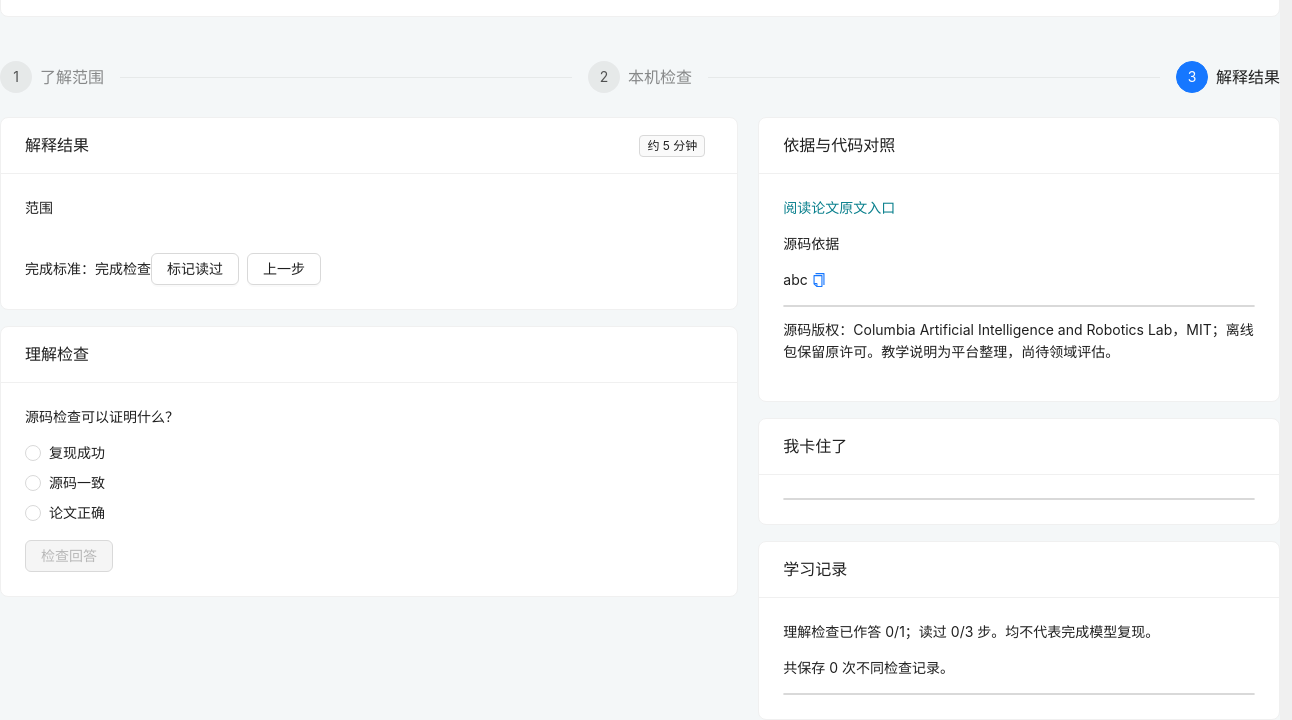
Test: saved answers receive feedback and scope stays honest
(page scrolled)
Expected: the text "源码检查可以证明什么？" is shown, [25,408,179,425]
What coordinates should you click on to do the following:
click the radio button labelled "复现成功"
I would click on:
 (69, 453)
Its box is [25,442,113,464].
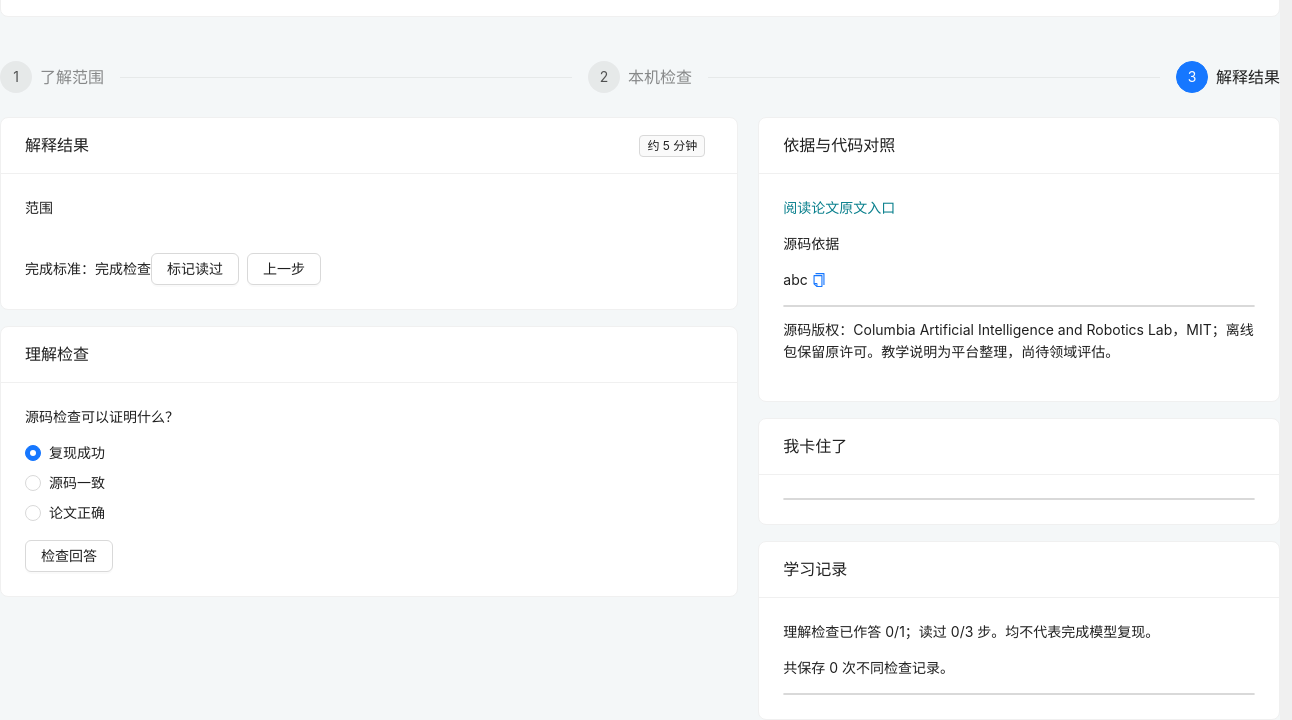
What coordinates should you click on to do the following:
click the button "检查回答"
I would click on:
 (69, 556)
Its box is [25,540,113,572].
(page scrolled)
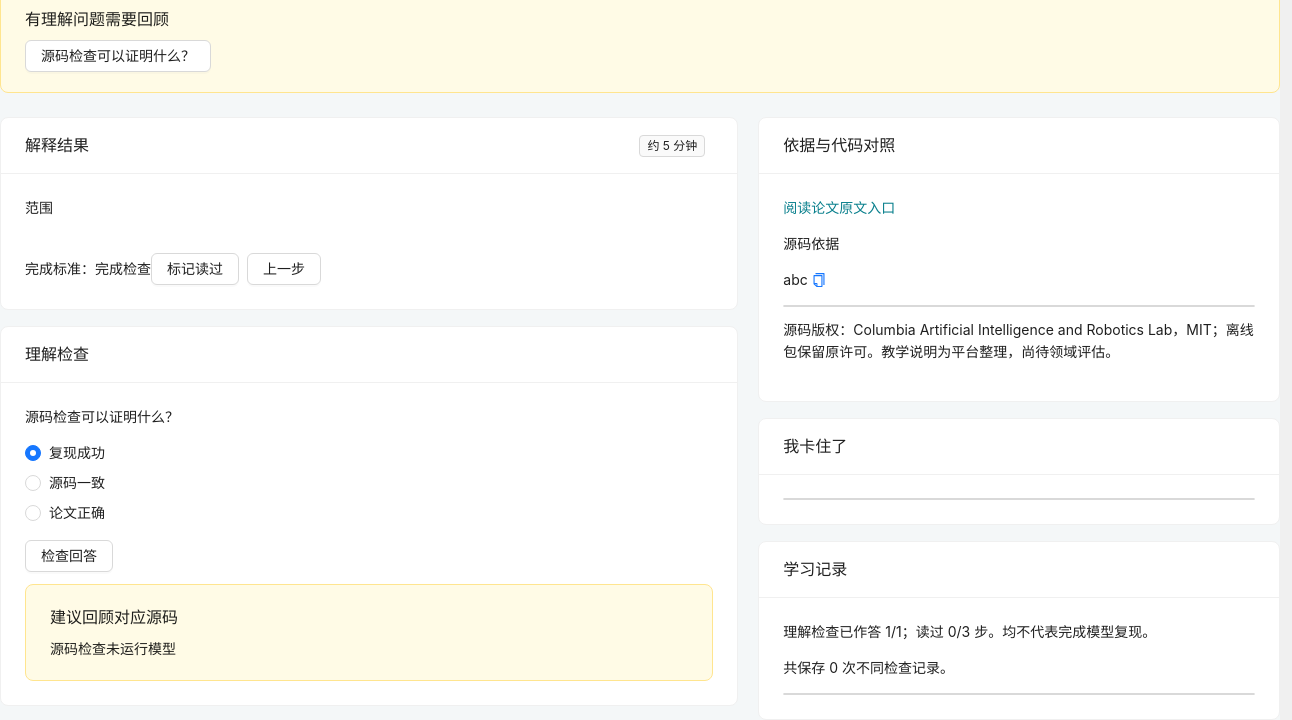
Expected: the text "源码检查未运行模型" is shown, [50,640,176,657]
